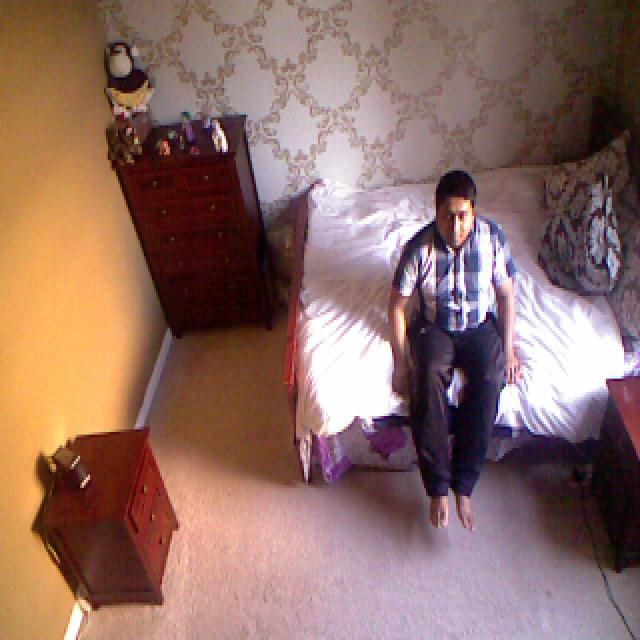sitting: (384, 173, 521, 542)
